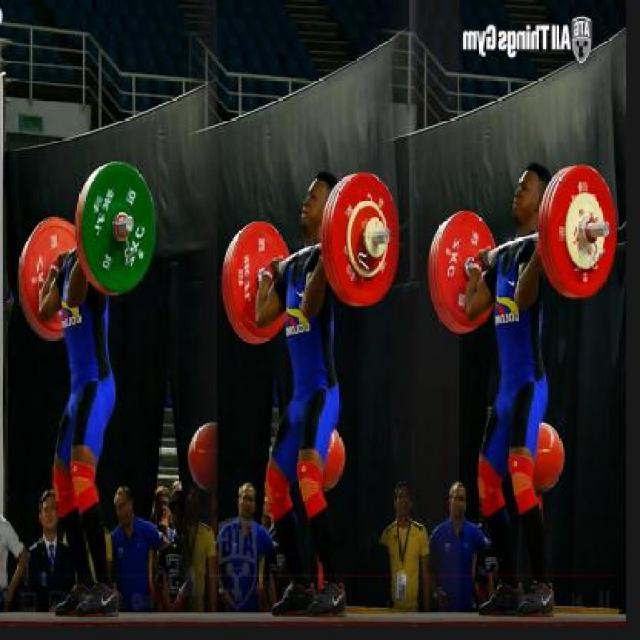Barbell: (378, 224, 392, 250), (123, 211, 137, 234), (599, 219, 613, 239)
